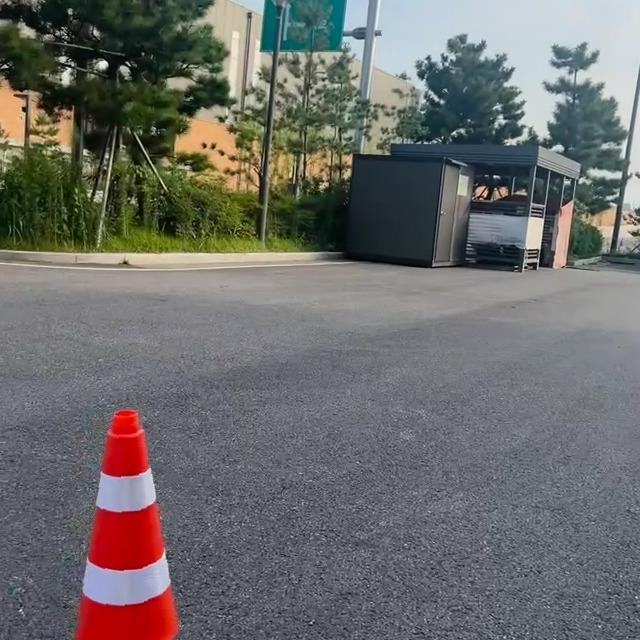fallen_object: (67, 379, 202, 640)
